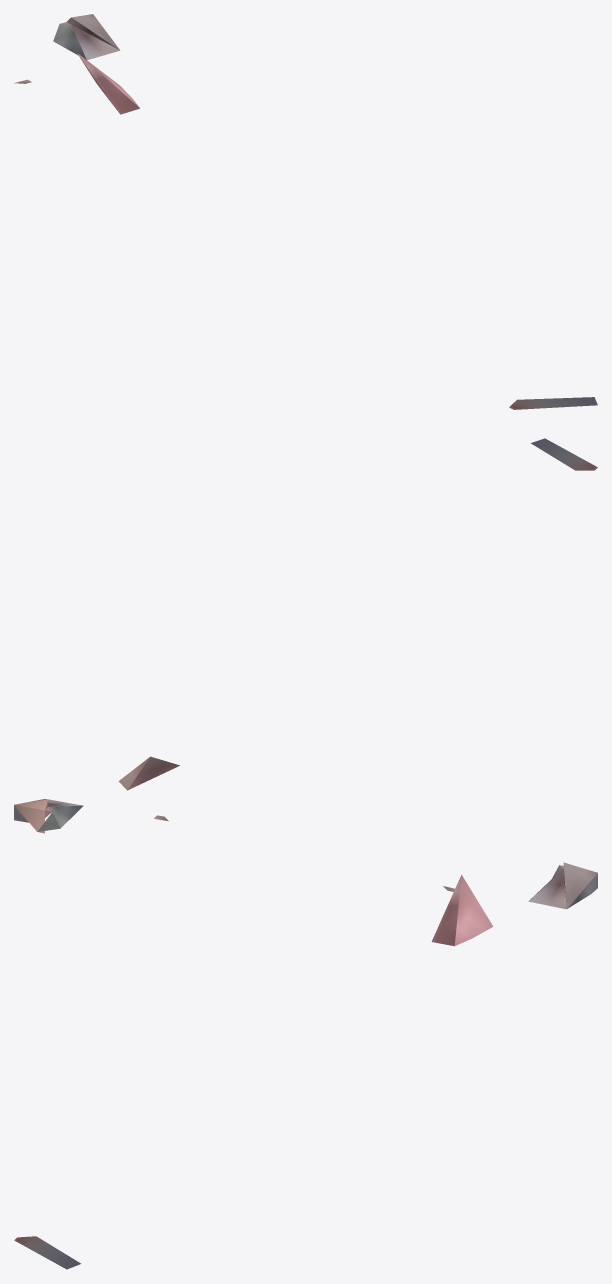
The picture shows the model from 3 angles, top to bottom: view 1: azimuth 30°, elevation 25°; view 2: azimuth 150°, elevation 25°; view 3: azimuth 330°, elevation 25°; orthographic projection. The views are drawn at different scales.
Parts seen in each view (by area): view 1: Mesh_0; view 2: Mesh_0; view 3: Mesh_0.
Part boxes in pixels (left/top/right/bottom): Mesh_0: left=14, top=14, right=597, bottom=409; Mesh_0: left=14, top=438, right=597, bottom=833; Mesh_0: left=14, top=862, right=597, bottom=1269.
Bounding box in the file's own units: 80.97 × 30.02 × 615.
1 material, 1 textured.
